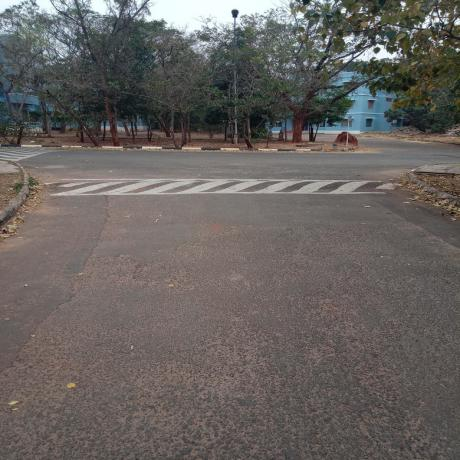Speed Bump: (31, 176, 409, 196)
